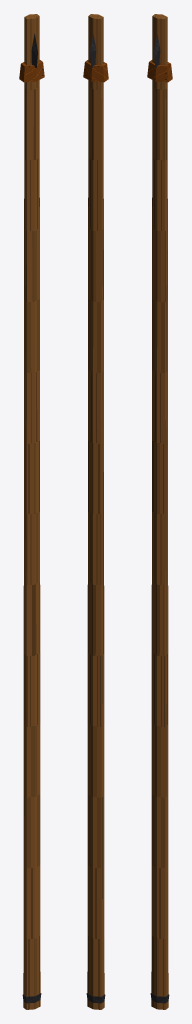
File: pica.glb
3 views of the same model, side by side, from view 1: azimuth 30°, elevation 25°; view 2: azimuth 150°, elevation 25°; view 3: azimuth 330°, elevation 25° (orthographic).
Visible parts, largest first — view 1: asta, virola, punta, regaton; view 2: asta, virola, punta, regaton; view 3: asta, virola, punta, regaton.
Part boxes in pixels (left/top/right/bottom): asta: left=23, top=14, right=40, bottom=1009; virola: left=19, top=60, right=44, bottom=82; punta: left=31, top=33, right=37, bottom=68; regaton: left=22, top=993, right=41, bottom=1003; asta: left=87, top=14, right=104, bottom=1009; virola: left=83, top=60, right=108, bottom=82; punta: left=90, top=33, right=96, bottom=68; regaton: left=86, top=993, right=105, bottom=1003; asta: left=151, top=14, right=168, bottom=1009; virola: left=147, top=60, right=172, bottom=82; punta: left=154, top=33, right=160, bottom=68; regaton: left=150, top=993, right=169, bottom=1003.
Size of the model in its own units: 0.1 by 4.5 by 0.1.
Materials: 1 (1 with a texture image).
